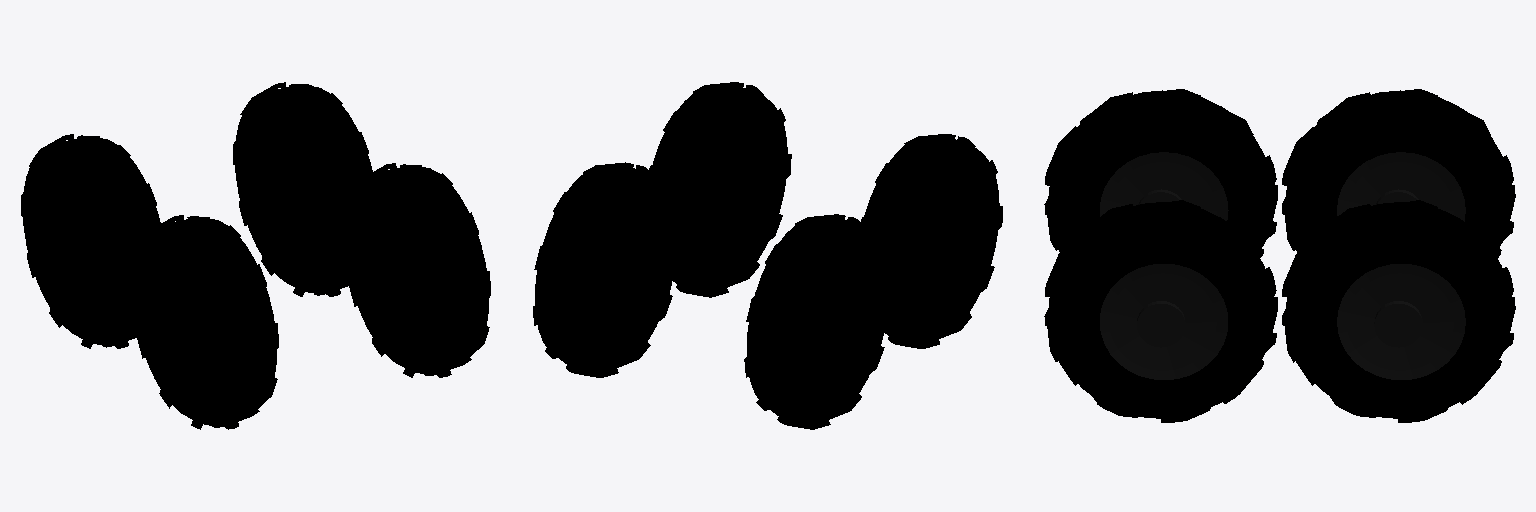
robot.urdf — e4:
<?xml version="1.0"?>
<robot name="e4">
    <link name="Body">
        <visual>
            <origin rpy="0.0 0 0" xyz="0 0 0"/>
            <geometry>
                <mesh filename="package://e4_gazebo/meshes/e4_body.dae"/>
            </geometry>
        </visual>
    </link>

    <joint name="lf_wheel_joint" type="fixed">
        <origin rpy="0 0 0" xyz="0 0 0"/>
        <parent link="Body"/>
        <child link="lf_wheel"/>
    </joint>

    <link name="lf_wheel">
        <visual>
            <origin rpy="0.0 0 0" xyz="0.25 -0.225 0.135"/>
            <geometry>
                <mesh filename="package://e4_gazebo/meshes/wheel.dae"/>
            </geometry>
        </visual>
    </link>

    <joint name="rf_wheel_joint" type="fixed">
        <origin rpy="0 0 0" xyz="0 0 0"/>
        <parent link="Body"/>
        <child link="rf_wheel"/>
    </joint>

    <link name="rf_wheel">
        <visual>
            <origin rpy="0.0 0 0" xyz="-0.25 -0.225 0.135"/>
            <geometry>
                <mesh filename="package://e4_gazebo/meshes/wheel.dae"/>
            </geometry>
        </visual>
    </link>

    <joint name="lr_wheel_joint" type="fixed">
        <origin rpy="0 0 0" xyz="0 0 0"/>
        <parent link="Body"/>
        <child link="lr_wheel"/>
    </joint>

    <link name="lr_wheel">
        <visual>
            <origin rpy="0.0 0 0" xyz="0.25 0.225 0.135"/>
            <geometry>
                <mesh filename="package://e4_gazebo/meshes/wheel.dae"/>
            </geometry>
        </visual>
    </link>

    <joint name="rr_wheel_joint" type="fixed">
        <origin rpy="0 0 0" xyz="0 0 0"/>
        <parent link="Body"/>
        <child link="rr_wheel"/>
    </joint>

    <link name="rr_wheel">
        <visual>
            <origin rpy="0.0 0 0" xyz="-0.25 0.225 0.135"/>
            <geometry>
                <mesh filename="package://e4_gazebo/meshes/wheel.dae"/>
            </geometry>
        </visual>
    </link>
</robot>

--- Render facts (derived) ---
3 views of the same robot in one strip: view 1: azimuth 30°, elevation 25°; view 2: azimuth 150°, elevation 25°; view 3: azimuth 270°, elevation 25° (orthographic).
Robot: e4 — 5 links, 4 joints (4 fixed); root link Body; default pose: every joint at zero.
Links seen in each view (by area): view 1: lf_wheel, rf_wheel, rr_wheel, lr_wheel; view 2: lr_wheel, rr_wheel, lf_wheel, rf_wheel; view 3: lr_wheel, lf_wheel, rf_wheel, rr_wheel.
Link boxes in pixels (x1,y1,x2,y2): lf_wheel: (343,163,490,377); rf_wheel: (131,215,278,429); rr_wheel: (21,134,160,348); lr_wheel: (233,82,372,296); lr_wheel: (533,162,681,377); rr_wheel: (744,214,892,429); lf_wheel: (649,82,791,297); rf_wheel: (861,134,1002,348); lr_wheel: (1282,200,1515,422); lf_wheel: (1044,200,1277,422); rf_wheel: (1044,89,1277,257); rr_wheel: (1282,89,1515,257).
Size in the robot's own frame: 0.6169 by 0.893 by 0.452 metres.
Meshes: 2 distinct files referenced, 4 mesh visuals loaded (1 Collada DAE); not drawn: 1 (reference not matched to a file when rendering).